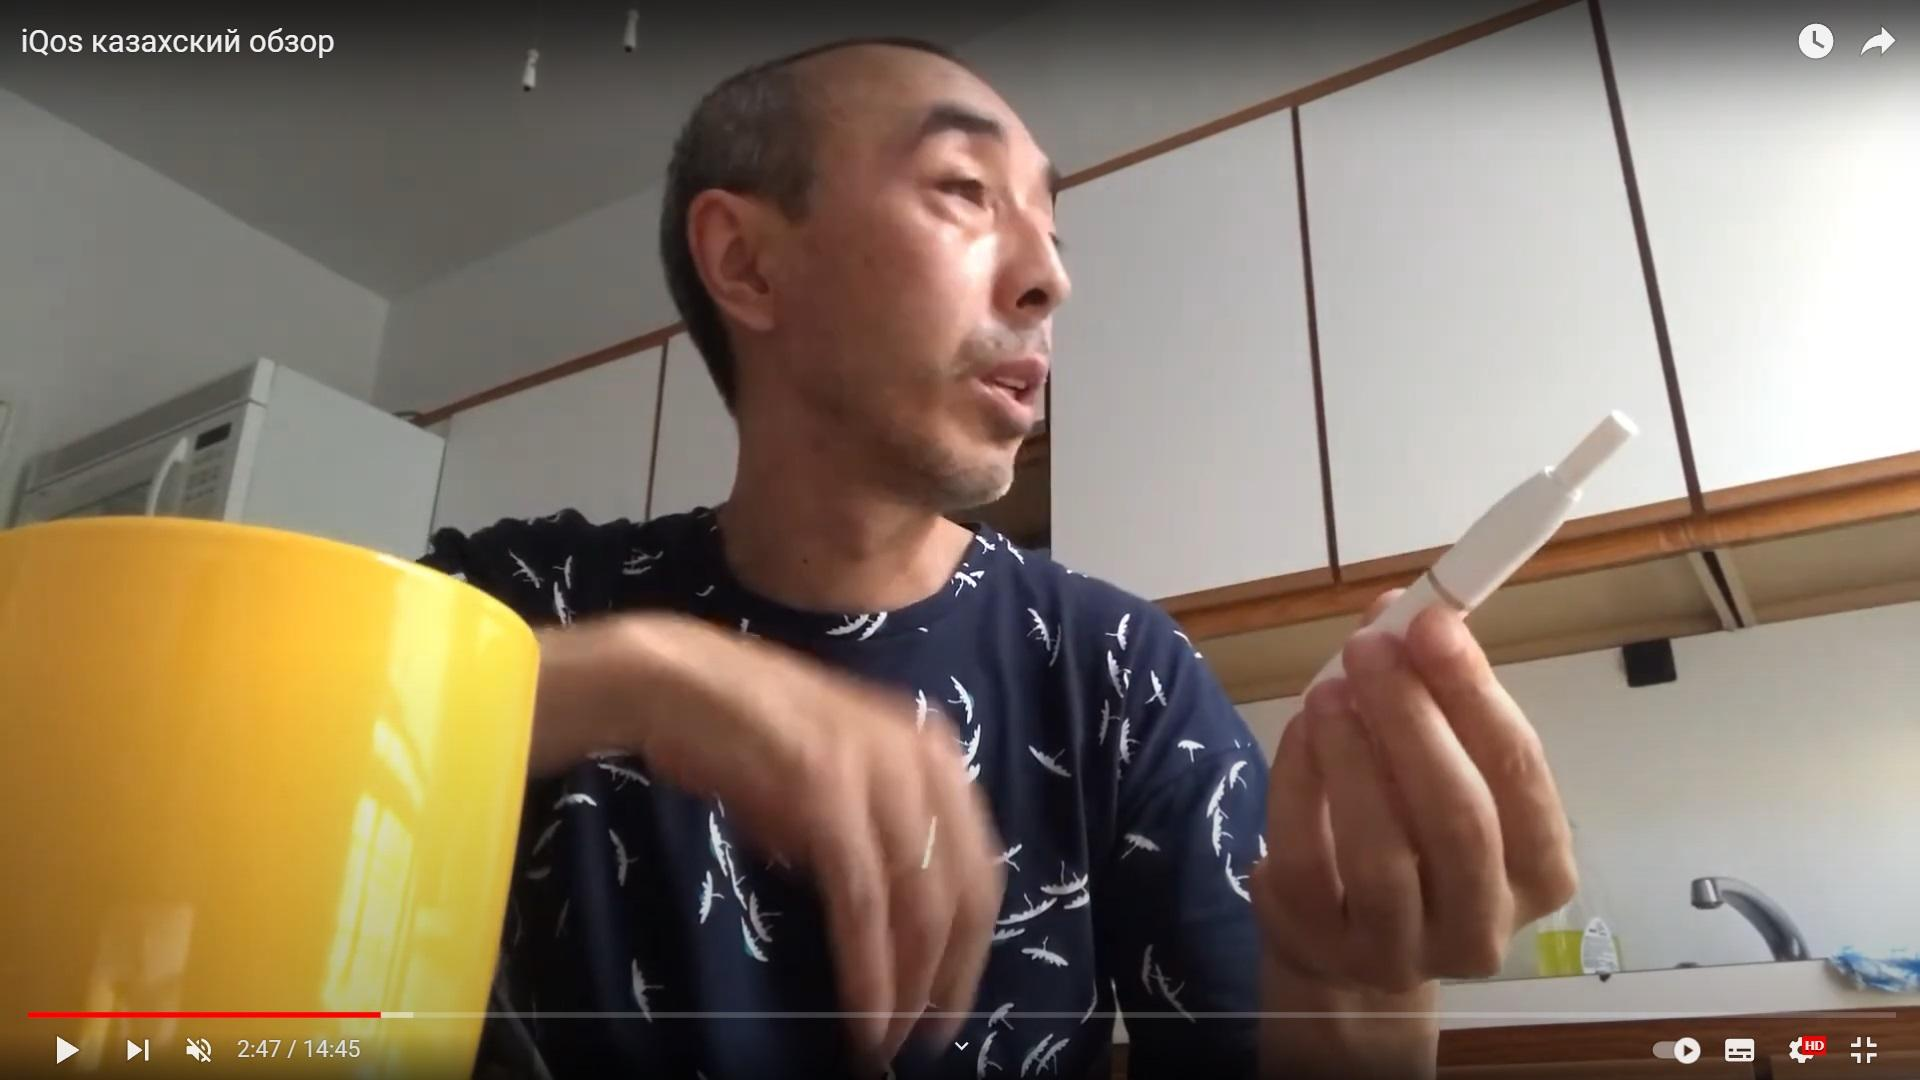iqos: (1373, 413, 1636, 634)
